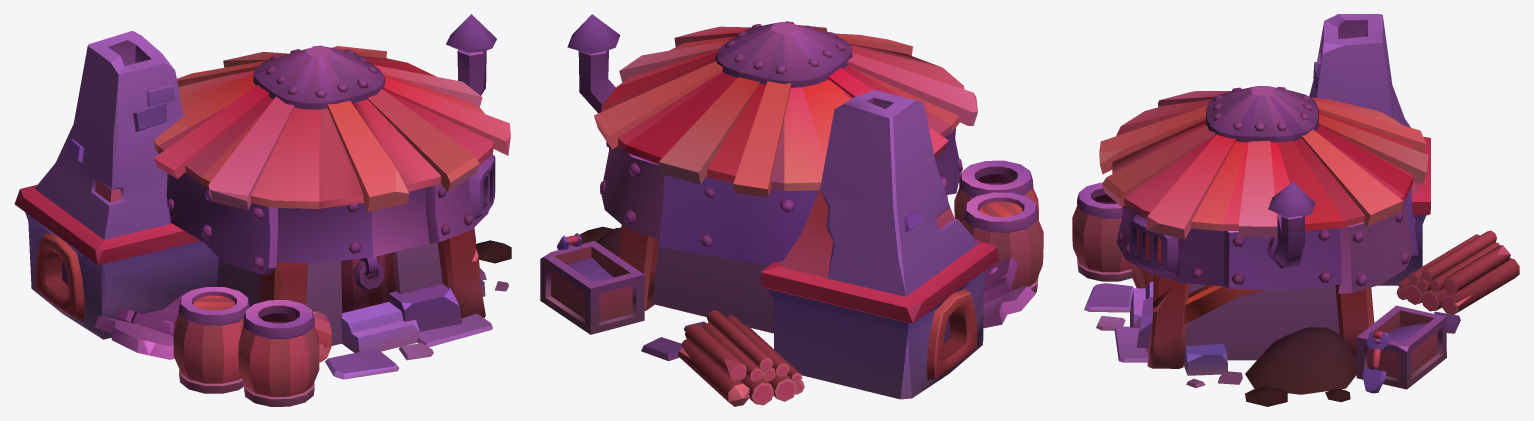
Rendered from Rembezi_test_kefir1.fbx.
The picture shows the model from 3 angles, left to right: view 1: azimuth 30°, elevation 25°; view 2: azimuth 150°, elevation 25°; view 3: azimuth 270°, elevation 25°; orthographic projection. The views are drawn at different scales.
Visible parts, largest first — view 1: Circle.009; view 2: Circle.009; view 3: Circle.009.
Part boxes in pixels (x1,y1,x2,y2): Circle.009: (14, 14, 511, 406); Circle.009: (540, 14, 1043, 406); Circle.009: (1072, 14, 1519, 406).
Bounding box in the file's own units: 446 × 262 × 451.
